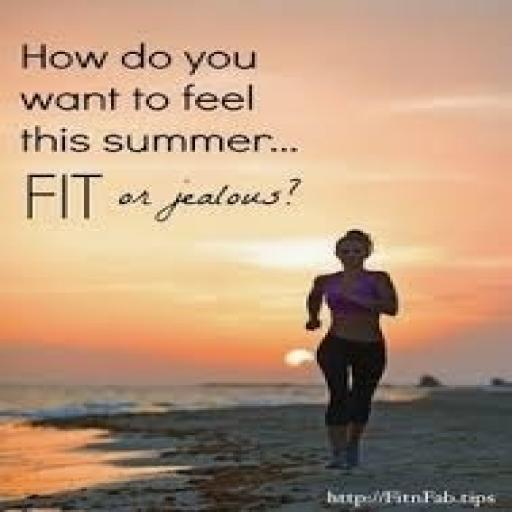running: (300, 227, 404, 472)
